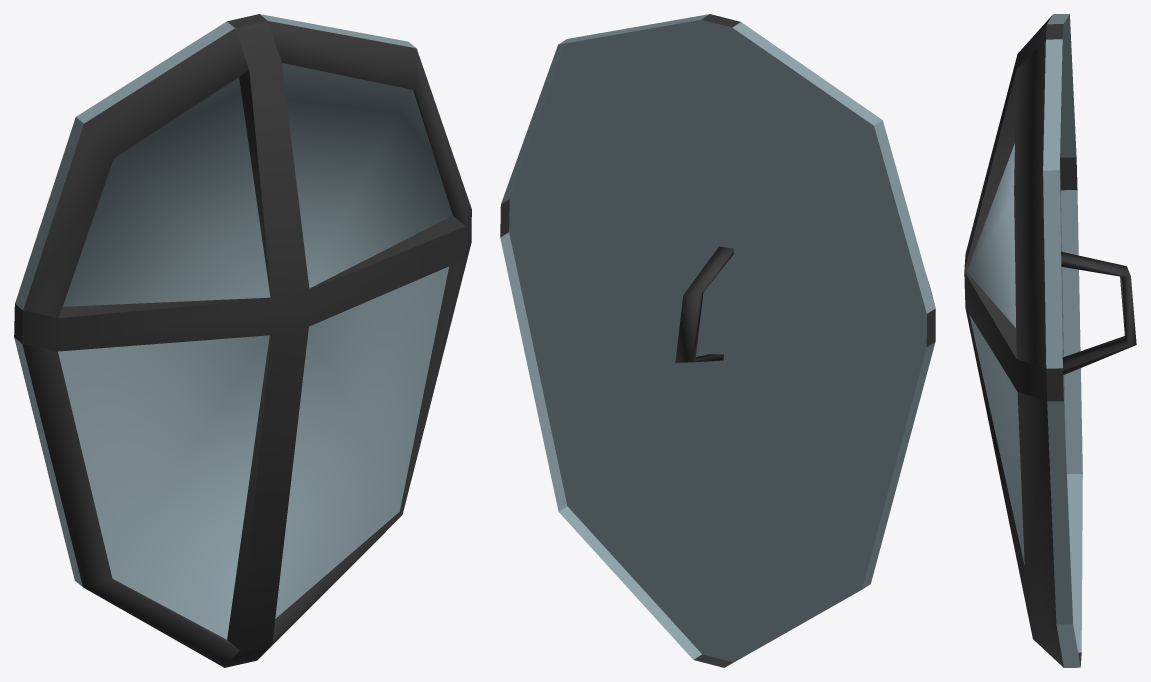
File: runite_kiteshield.glb
3 renders of one model, left to right at view 1: azimuth 30°, elevation 25°; view 2: azimuth 150°, elevation 25°; view 3: azimuth 270°, elevation 25°, orthographic. The views are drawn at different scales.
Visible parts, largest first — view 1: Steel Kiteshield; view 2: Steel Kiteshield; view 3: Steel Kiteshield.
Part boxes in pixels (<box>): Steel Kiteshield: <box>14,14,471,667</box>; Steel Kiteshield: <box>500,14,935,667</box>; Steel Kiteshield: <box>964,14,1136,667</box>.
Size of the model in its own units: 0.381 by 0.532 by 0.132.
